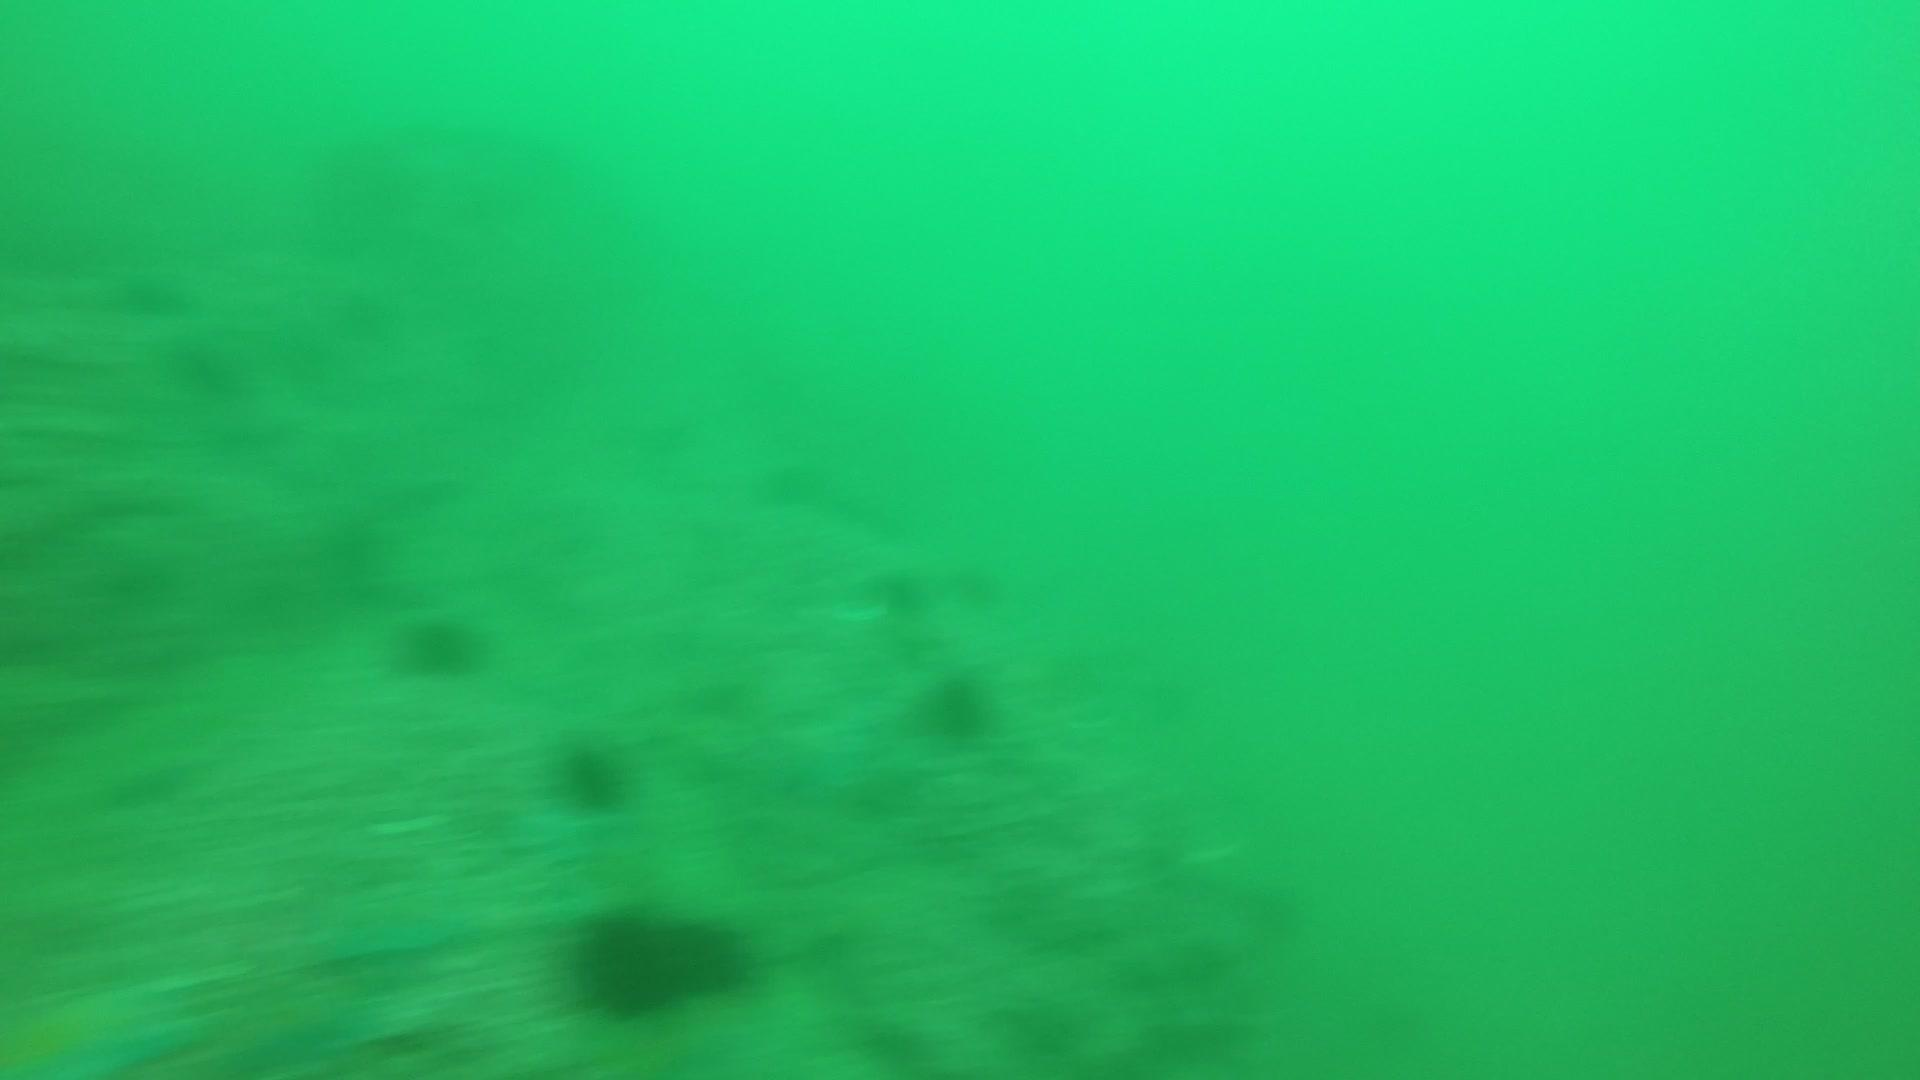echinus: (651, 905, 791, 1025), (543, 897, 680, 1018), (386, 605, 491, 683), (547, 731, 640, 818), (911, 665, 1001, 745), (322, 281, 392, 342), (865, 560, 934, 621), (171, 334, 240, 394), (117, 266, 186, 327), (939, 555, 1007, 615)
starfish: (158, 967, 419, 1075), (5, 975, 203, 1077), (302, 873, 481, 971)
